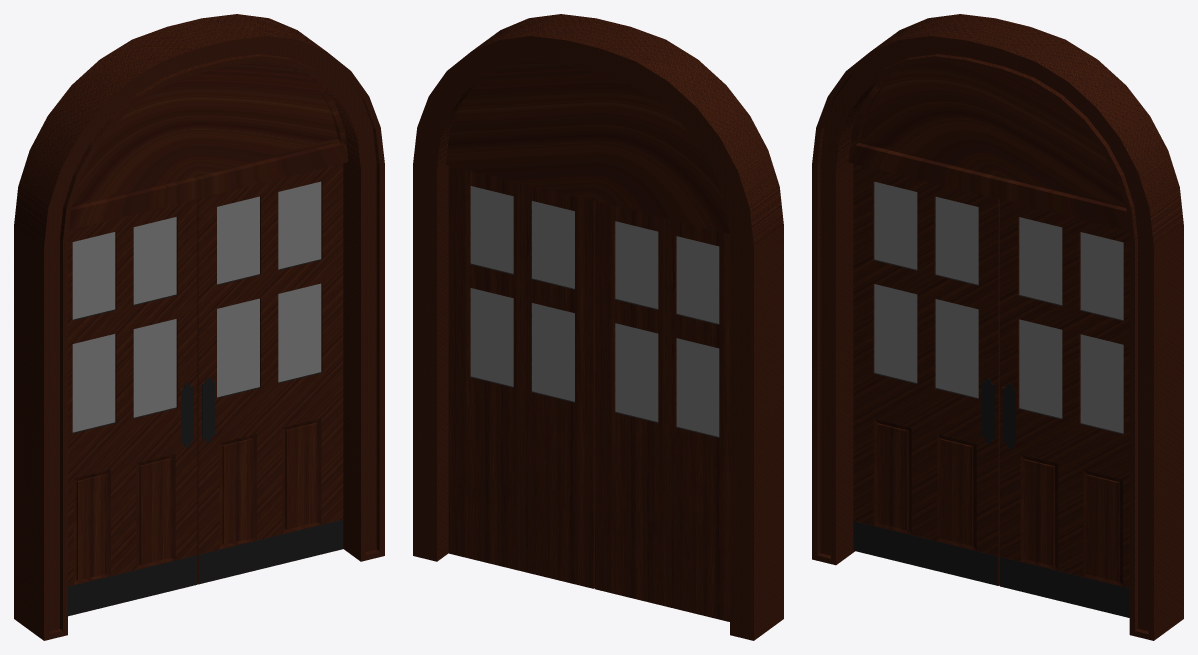
File: BR_Door_2.glb
3 renders of one model, left to right at view 1: azimuth 30°, elevation 25°; view 2: azimuth 150°, elevation 25°; view 3: azimuth 330°, elevation 25°, orthographic.
Visible parts, largest first — view 1: door, glass, metal door; view 2: door, glass, metal door; view 3: door, glass, metal door.
Part boxes in pixels (<box>): door: <box>14,14,384,640</box>; glass: <box>72,181,321,432</box>; metal door: <box>68,259,343,615</box>; door: <box>413,14,783,640</box>; glass: <box>470,186,719,436</box>; metal door: <box>470,263,719,437</box>; door: <box>812,14,1183,640</box>; glass: <box>874,181,1123,433</box>; metal door: <box>853,259,1129,617</box>.
Size of the model in its own units: 2.17 by 3.37 by 0.3301.
Materials: 3 (1 with a texture image).
